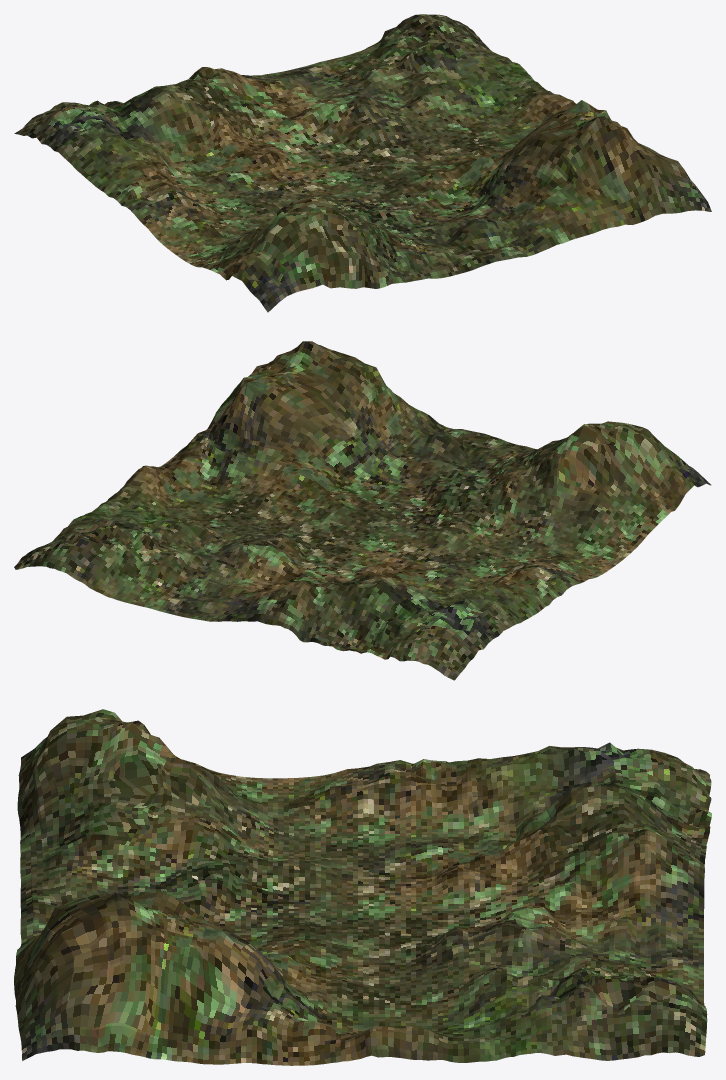
File: azylworld3.glb
3 views of the same model, one above another, from view 1: azimuth 30°, elevation 25°; view 2: azimuth 150°, elevation 25°; view 3: azimuth 270°, elevation 25° (orthographic). The views are drawn at different scales.
Visible parts, largest first — view 1: Plane; view 2: Plane; view 3: Plane.
Boxes of the visible parts, x1=… form: Plane: x1=14, y1=14, x2=711, y2=312; Plane: x1=14, y1=341, x2=711, y2=680; Plane: x1=14, y1=709, x2=711, y2=1065.
Size of the model in its own units: 262 by 51.17 by 262.
2 materials, 2 textured.
